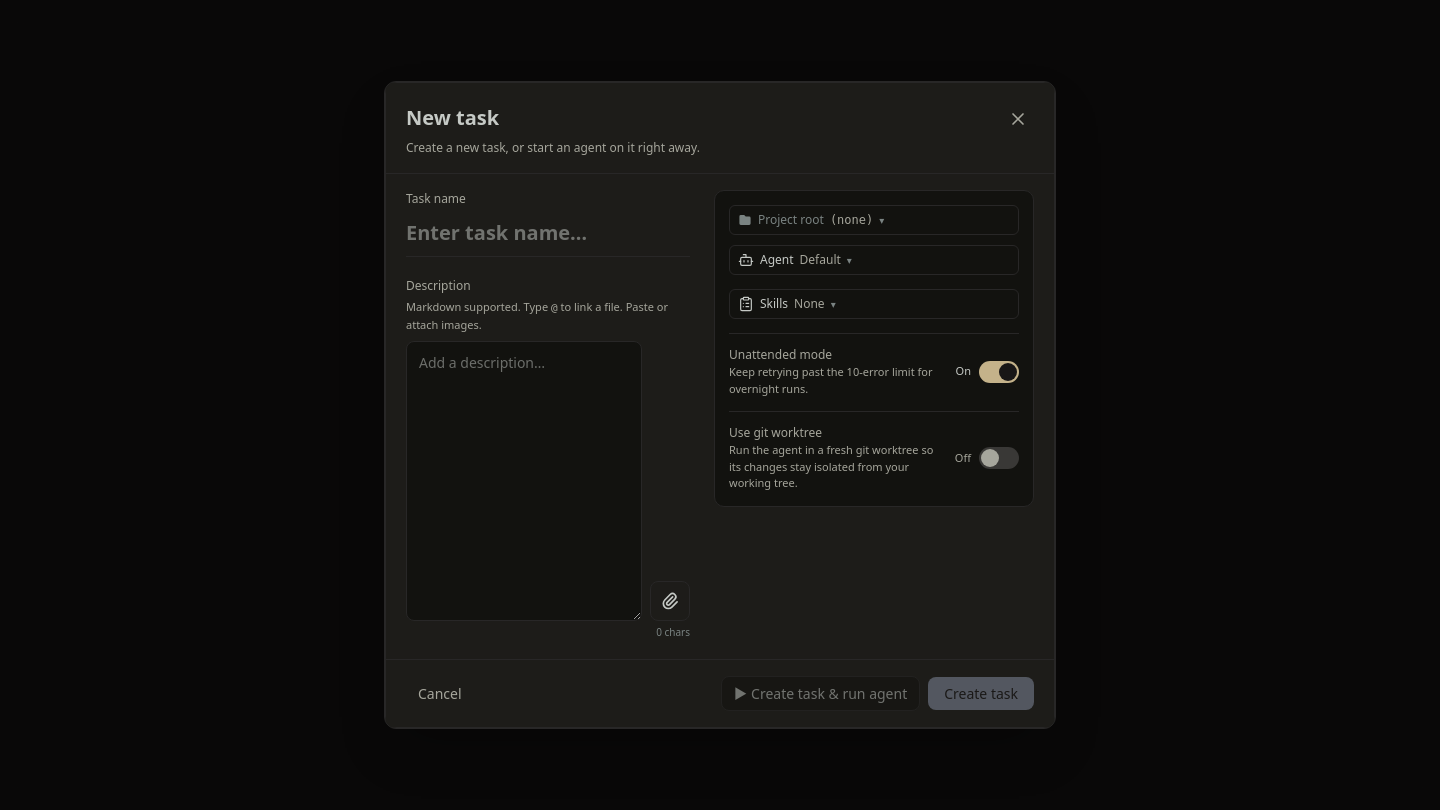
Scenario: KanbanTaskDetailDialog — skills picker (Migration 112) › clicking a checked row again drops that skill
What coordinates should you click on to do the following:
click the button with test id "kanban-task-detail-skill-picker"
I would click on:
 (809, 304)
Its box is [729, 289, 1019, 319].
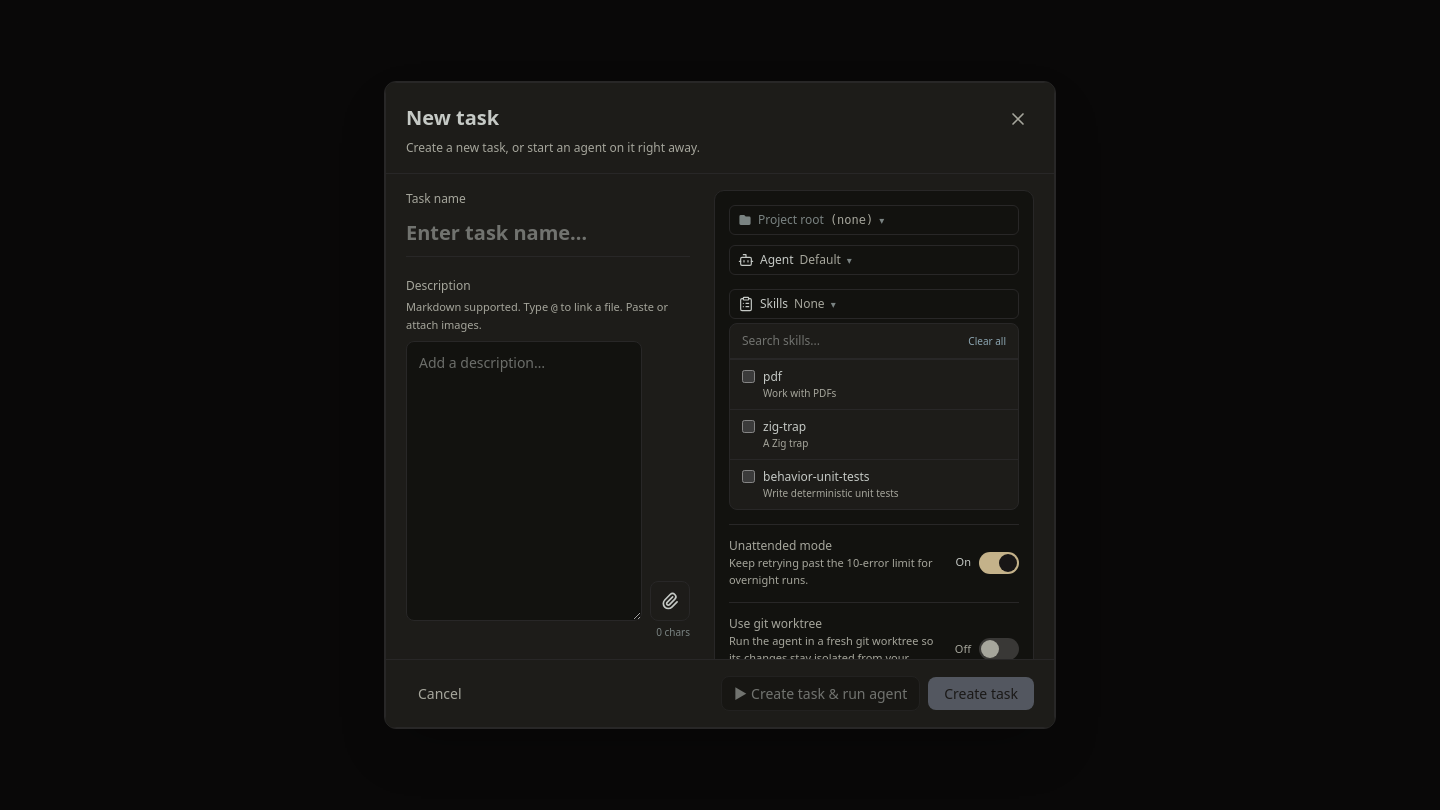
What coordinates should you click on to do the following:
click the button with test id "kanban-task-detail-skill-picker-item" showing "pdf Work with PDFs"
I would click on:
 (800, 393)
Its box is [730, 359, 1018, 409].
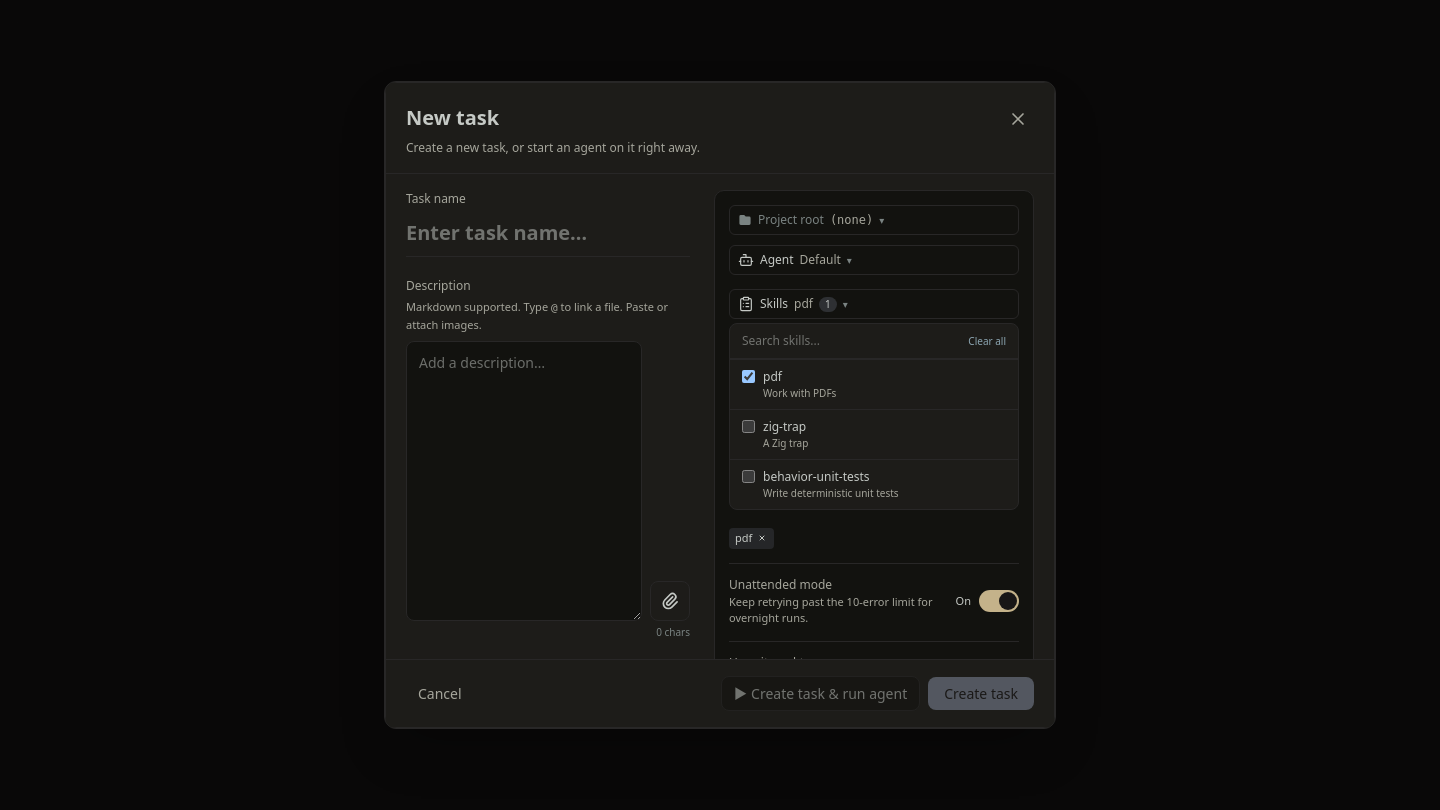
What coordinates should you click on to do the following:
click the button with test id "kanban-task-detail-skill-picker-item" showing "zig-trap A Zig trap"
I would click on:
 (785, 426)
Its box is [730, 409, 1018, 459].
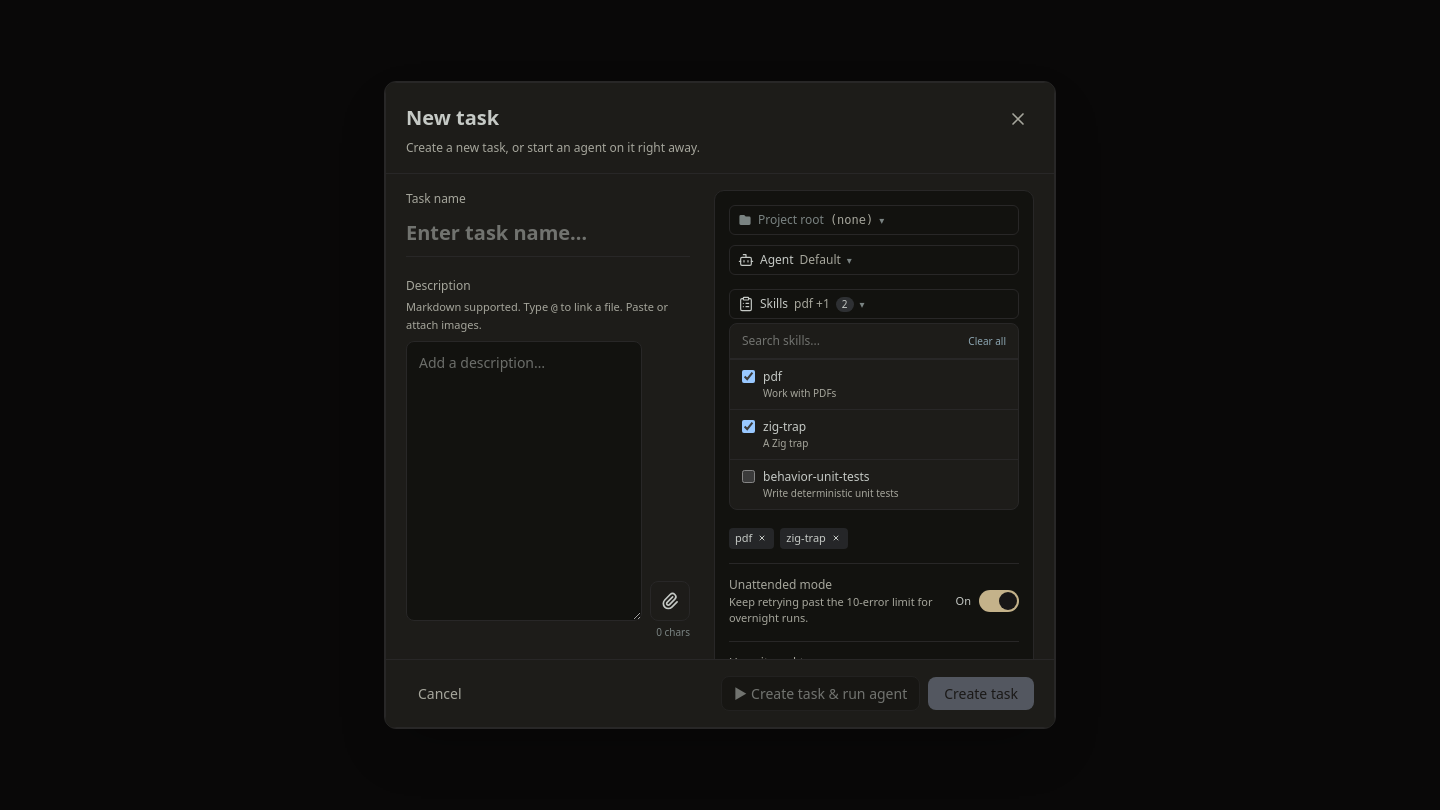
What coordinates should you click on to do the following:
click the button with test id "kanban-task-detail-skill-picker-item" showing "pdf Work with PDFs"
I would click on:
 (800, 393)
Its box is [730, 359, 1018, 409].
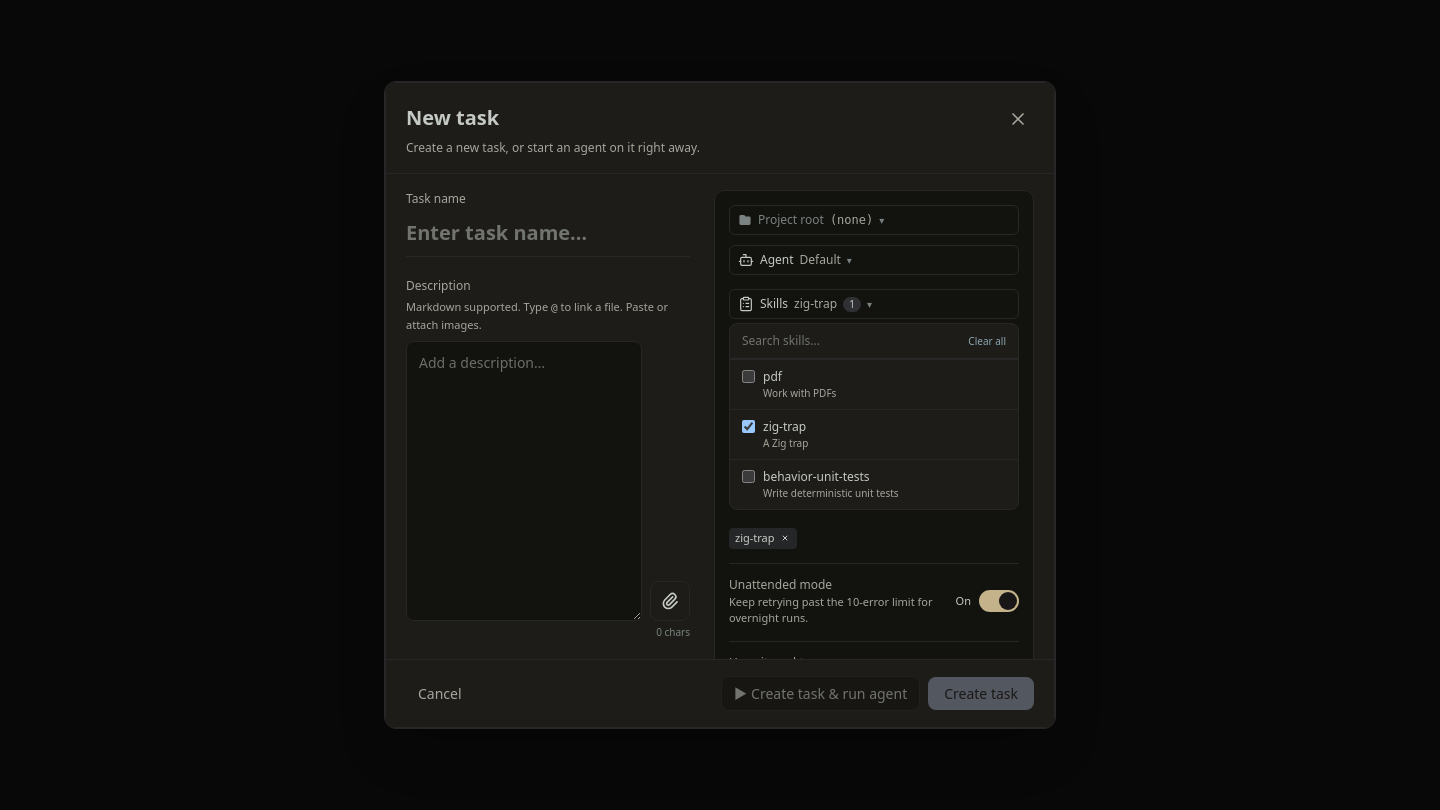
Now the button with test id "kanban-task-detail-skill-picker" shows "zig-trap", box [729, 289, 1019, 319]
